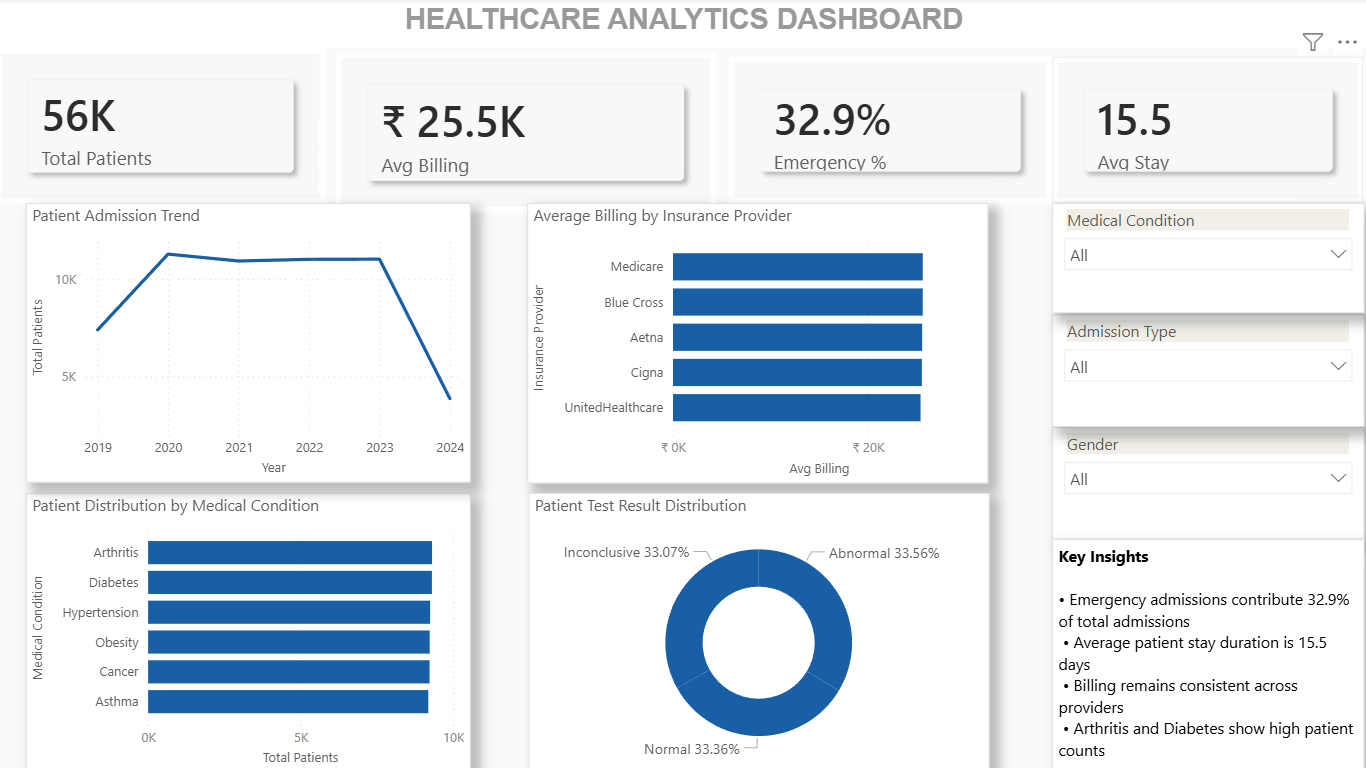

The page's visual inventory and layout, read from the dashboard file:
{"tool":"powerbi","page":{"name":"Page 1","canvas":[1280,720],"ordinal":0},"visuals":[{"type":"textbox","box":[0,0,1280,46.2],"z":0},{"type":"cardVisual","fields":{"Data":["HealthcareData.Avg Billing"]},"box":[316.2,51.2,353.8,148.8],"z":1000},{"type":"cardVisual","fields":{"Data":["HealthcareData.Emergency %"]},"box":[681.2,55,301.2,136.2],"z":2000},{"type":"cardVisual","fields":{"Data":["HealthcareData.Avg Stay"]},"box":[982.5,55,290,136.2],"z":3000},{"type":"cardVisual","fields":{"Data":["HealthcareData.Total Patients"]},"box":[0,46.2,306.2,145],"z":4000},{"type":"clusteredBarChart","title":"Patient Distribution by Medical Condition","fields":{"Category":["HealthcareData.Medical Condition"],"Y":["HealthcareData.Total Patients"]},"box":[27.5,460,413.8,260],"z":5000},{"type":"barChart","title":"Average Billing by Insurance Provider","fields":{"Category":["HealthcareData.Insurance Provider"],"Y":["HealthcareData.Avg Billing"]},"box":[494.2,190.7,429.1,260.5],"z":6000},{"type":"donutChart","title":"Patient Test Result Distribution","fields":{"Category":["HealthcareData.Test Results"],"Y":["HealthcareData.Total Patients"]},"box":[495.4,460.5,429.1,259.3],"z":7000},{"type":"lineChart","title":"Patient Admission Trend","fields":{"Y":["HealthcareData.Total Patients"],"Category":["HealthcareData.Date of Admission.Variation.Date Hierarchy.Year","HealthcareData.Date of Admission.Variation.Date Hierarchy.Month"]},"box":[27.5,191.2,413.8,260],"z":8000},{"type":"slicer","fields":{"Values":["HealthcareData.Gender"]},"box":[982.5,398.8,290,105],"z":9000},{"type":"slicer","fields":{"Values":["HealthcareData.Admission Type"]},"box":[982.5,293.8,290,105],"z":10000},{"type":"slicer","fields":{"Values":["HealthcareData.Medical Condition"]},"box":[982.5,191.2,290,102.5],"z":11000},{"type":"textbox","box":[982.5,503.8,290,216.2],"z":12000}]}

Visuals, with their boxes in screenshot pixels (x1, y1, x2, y2), scaled from the page's 1280x720 canvas onto the 1366x768 screenshot:
textbox: (x1=0, y1=0, x2=1365, y2=49)
cardVisual - HealthcareData.Avg Billing: (x1=337, y1=55, x2=715, y2=213)
cardVisual - HealthcareData.Emergency %: (x1=727, y1=59, x2=1048, y2=204)
cardVisual - HealthcareData.Avg Stay: (x1=1049, y1=59, x2=1358, y2=204)
cardVisual - HealthcareData.Total Patients: (x1=0, y1=49, x2=327, y2=204)
"Patient Distribution by Medical Condition" clusteredBarChart: (x1=29, y1=491, x2=471, y2=767)
"Average Billing by Insurance Provider" barChart: (x1=527, y1=203, x2=985, y2=481)
"Patient Test Result Distribution" donutChart: (x1=529, y1=491, x2=987, y2=767)
"Patient Admission Trend" lineChart: (x1=29, y1=204, x2=471, y2=481)
slicer - HealthcareData.Gender: (x1=1049, y1=425, x2=1358, y2=537)
slicer - HealthcareData.Admission Type: (x1=1049, y1=313, x2=1358, y2=425)
slicer - HealthcareData.Medical Condition: (x1=1049, y1=204, x2=1358, y2=313)
textbox: (x1=1049, y1=537, x2=1358, y2=767)
